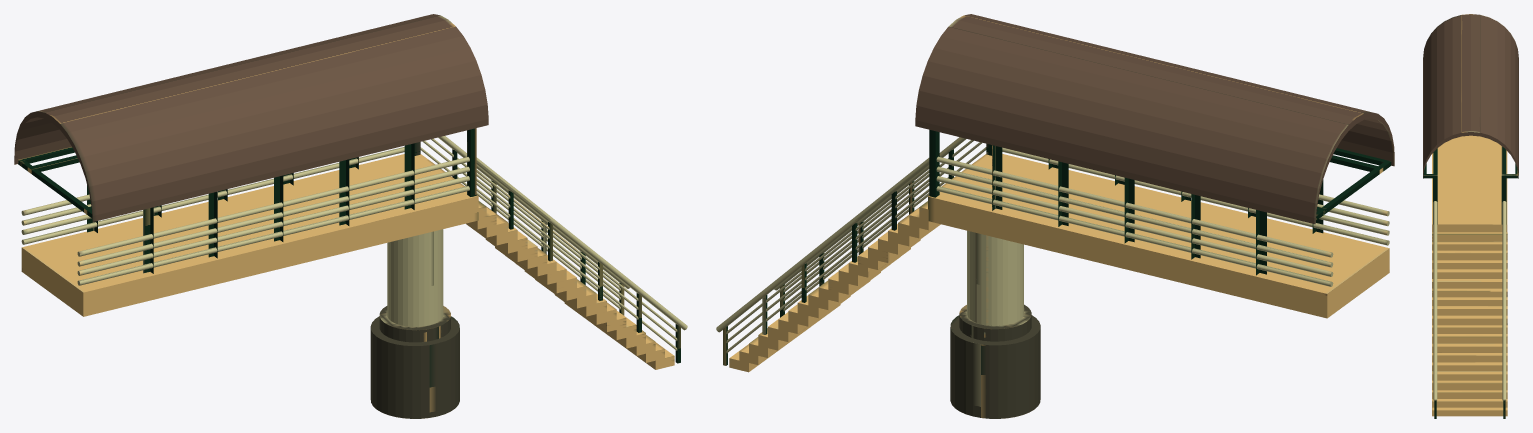
The model's file is OVERPASS.fbx.
3 views of the same model, side by side, from view 1: azimuth 30°, elevation 25°; view 2: azimuth 150°, elevation 25°; view 3: azimuth 270°, elevation 25° (orthographic). The views are drawn at different scales.
Parts seen in each view (by area): view 1: Cube; view 2: Cube; view 3: Cube.
Boxes of the visible parts, x1,y1,x2,y2 form: Cube: (14, 14, 687, 418); Cube: (716, 14, 1394, 418); Cube: (1423, 14, 1518, 418).
Size of the model in its own units: 6161 by 3588 by 1374.
Materials: 1 (1 with a texture image).
